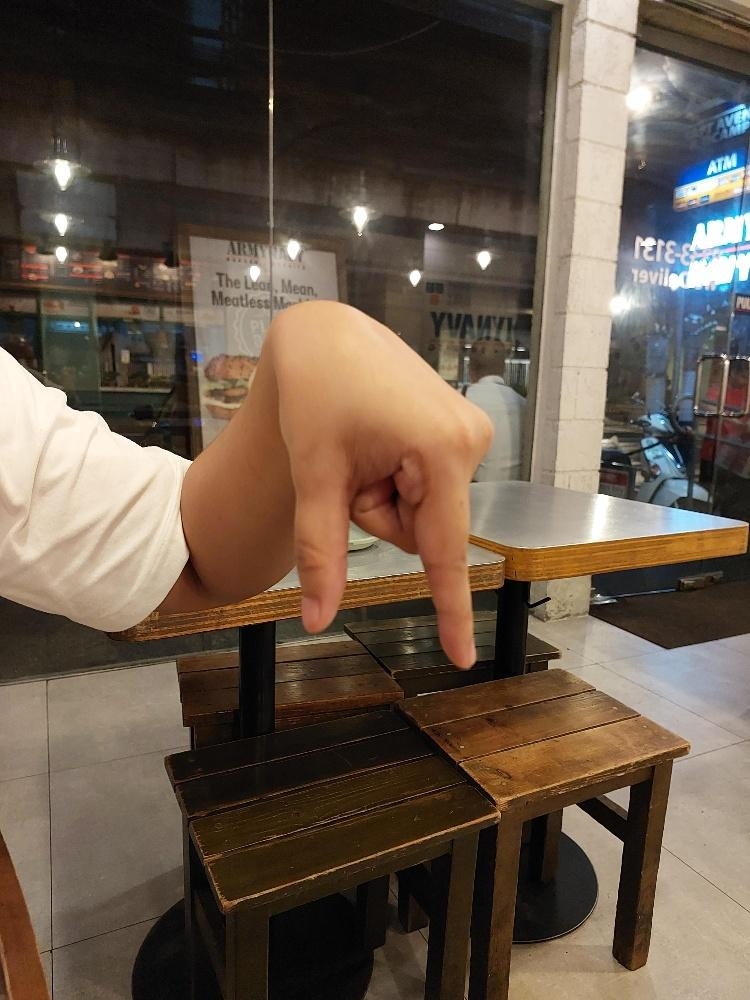q: (273, 296, 495, 670)
